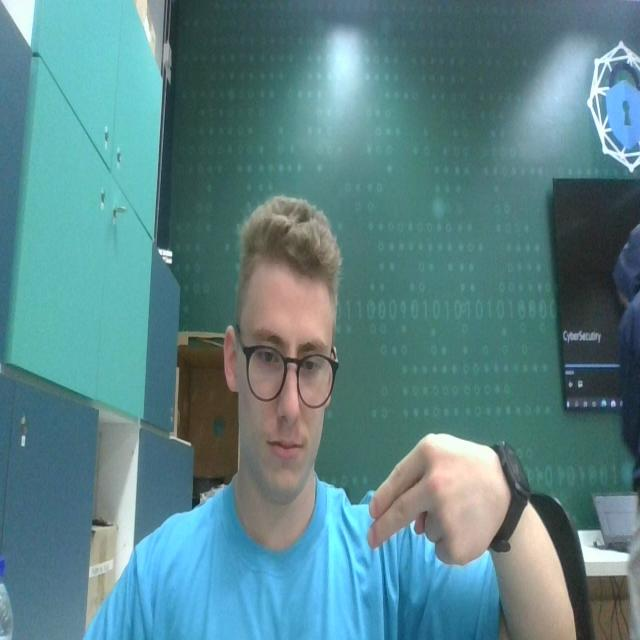N: (366, 411, 515, 580)
